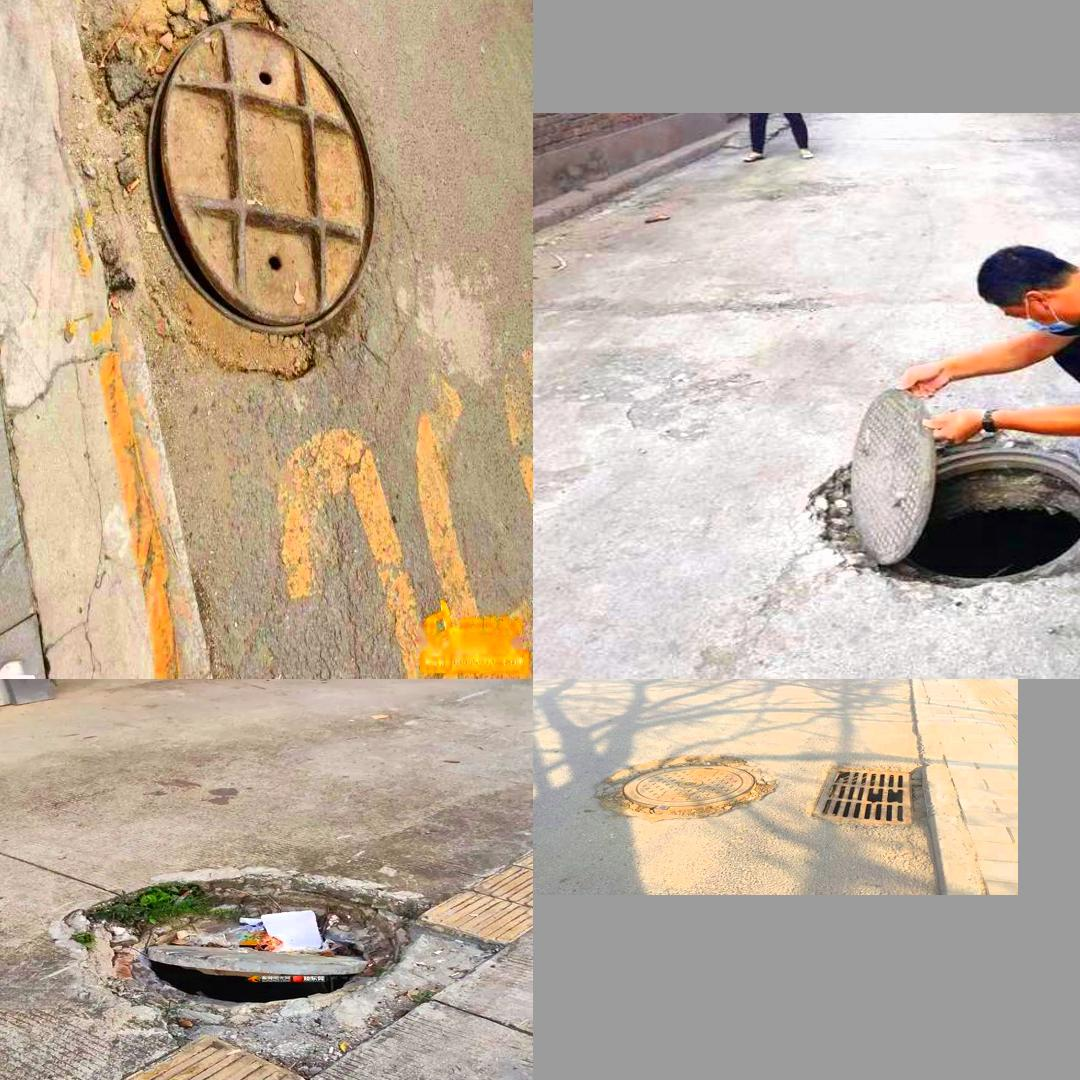circle: (55, 0, 413, 407), (32, 861, 481, 1065), (780, 403, 1080, 607), (594, 749, 783, 824)
